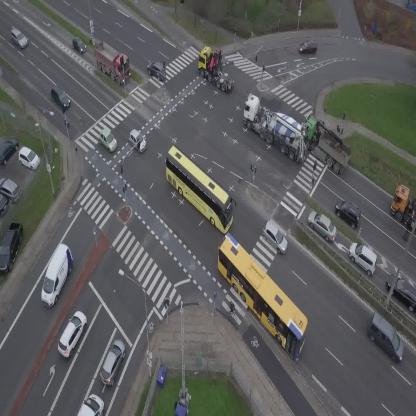bicycle: (227, 300, 237, 321)
bus: (201, 232, 322, 360), (151, 143, 246, 235)
car: (360, 311, 414, 364), (53, 308, 91, 359), (96, 337, 130, 388), (343, 239, 384, 277), (303, 207, 343, 244), (329, 195, 368, 231), (256, 220, 293, 256), (95, 127, 122, 154), (47, 84, 73, 111), (124, 128, 150, 154), (144, 58, 170, 83), (6, 26, 30, 51), (68, 34, 89, 57), (299, 39, 317, 53)
lorry: (231, 92, 321, 166), (293, 112, 359, 176), (189, 40, 247, 95), (33, 242, 80, 309), (85, 36, 139, 87), (391, 184, 416, 230), (78, 394, 104, 416)
